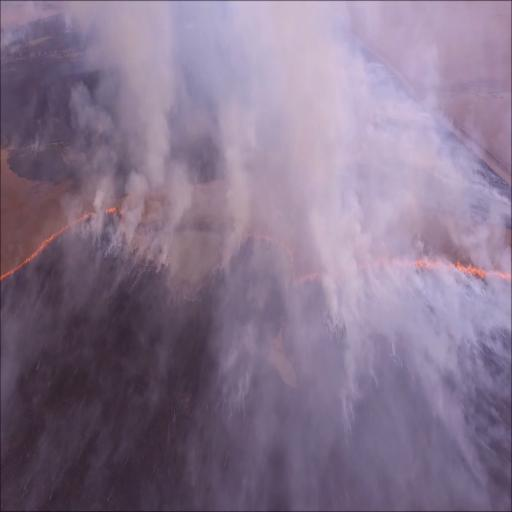smoke: (252, 2, 398, 425), (62, 0, 190, 294), (407, 271, 512, 512), (303, 172, 397, 420), (398, 101, 512, 281), (204, 104, 254, 276)
